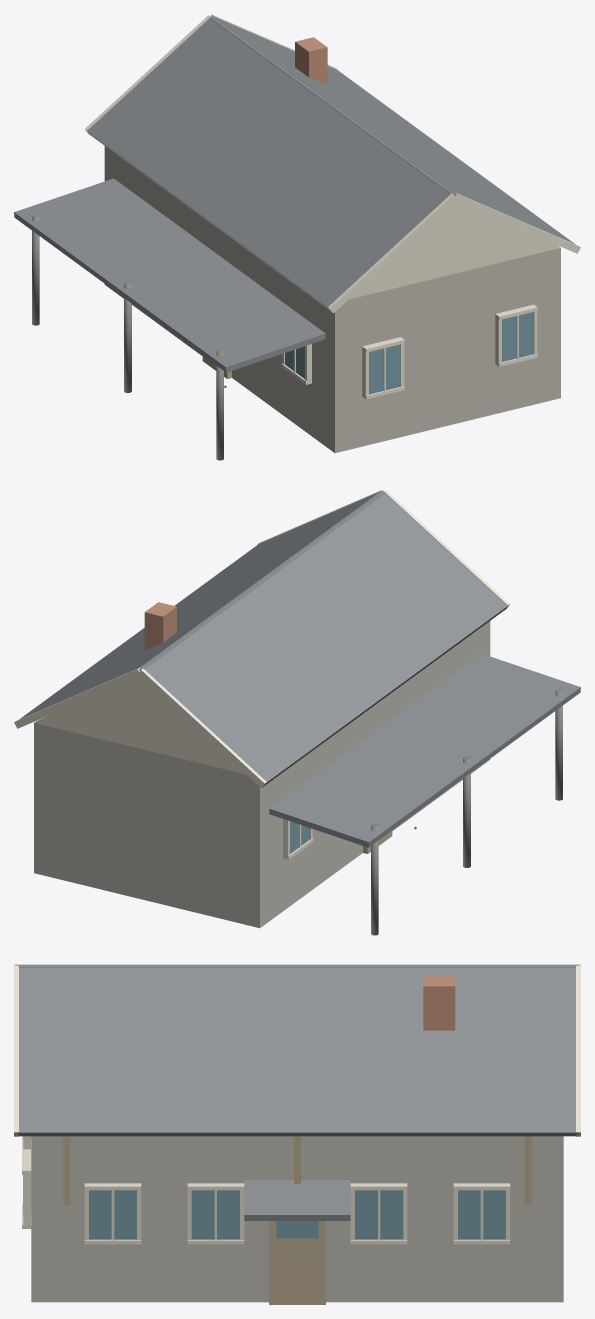
The model's file is rhine-station_lod0.glb.
3 views of the same model, one above another, from view 1: azimuth 30°, elevation 25°; view 2: azimuth 150°, elevation 25°; view 3: azimuth 270°, elevation 25° (orthographic). The views are drawn at different scales.
Parts seen in each view (by area): view 1: RF_Roof.001, RF_Station_Body, RF_PlatformCanopy, RF_Roof, RF_Gable, RF_Vergeband.001, RF_Ridge, RF_Window.009, RF_Window, RF_StationChimney, RF_Vergeband.003, RF_CanopyColumn.001 (+3 smaller); view 2: RF_Roof.001, RF_Station_Body, RF_PlatformCanopy, RF_Roof, RF_Gable.001, RF_Vergeband.002, RF_Ridge, RF_StationChimney, RF_Vergeband, RF_CanopyColumn, RF_CanopyColumn.001, RF_CanopyColumn.002 (+1 smaller); view 3: RF_Roof, RF_Station_Body, RF_PublicAwning, RF_Station_Door, RF_Window.006, RF_Window.007, RF_Window.005, RF_Window.008, RF_StationChimney, RF_Ridge, RF_Roof.001, RF_Vergeband.003 (+8 smaller).
Part boxes in pixels (x1,y1,x2,y2): RF_Roof.001: [87, 17, 451, 311]; RF_Station_Body: [104, 146, 560, 453]; RF_PlatformCanopy: [14, 178, 325, 372]; RF_Roof: [214, 17, 575, 244]; RF_Gable: [349, 201, 560, 299]; RF_Vergeband.001: [328, 193, 456, 313]; RF_Ridge: [210, 16, 455, 195]; RF_Window.009: [369, 344, 400, 394]; RF_Window: [502, 312, 533, 361]; RF_StationChimney: [295, 37, 327, 85]; RF_Vergeband.003: [455, 192, 580, 253]; RF_CanopyColumn.001: [216, 348, 223, 460]; RF_Roof.001: [143, 492, 507, 786]; RF_Station_Body: [34, 621, 490, 928]; RF_PlatformCanopy: [269, 653, 580, 847]; RF_Roof: [19, 491, 381, 719]; RF_Gable.001: [34, 676, 245, 774]; RF_Vergeband.002: [138, 668, 266, 788]; RF_Ridge: [139, 491, 384, 670]; RF_StationChimney: [144, 602, 176, 649]; RF_Vergeband: [14, 667, 139, 728]; RF_CanopyColumn: [371, 823, 378, 935]; RF_CanopyColumn.001: [555, 688, 562, 800]; RF_CanopyColumn.002: [463, 756, 470, 867]; RF_Roof: [17, 966, 577, 1136]; RF_Station_Body: [31, 1136, 563, 1302]; RF_PublicAwning: [244, 1180, 350, 1220]; RF_Station_Door: [269, 1221, 325, 1304]; RF_Window.006: [191, 1190, 239, 1239]; RF_Window.007: [355, 1190, 403, 1239]; RF_Window.005: [89, 1190, 136, 1239]; RF_Window.008: [458, 1190, 505, 1239]; RF_StationChimney: [423, 976, 455, 1030]; RF_Ridge: [16, 965, 578, 967]; RF_Roof.001: [19, 964, 575, 965]; RF_Vergeband.003: [14, 966, 18, 1136].
Bounding box in the file's own units: 14.11 × 8.7 × 15.98.
